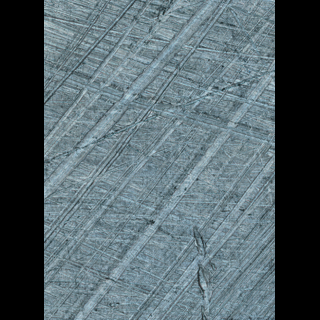d: (188, 222, 220, 319)
